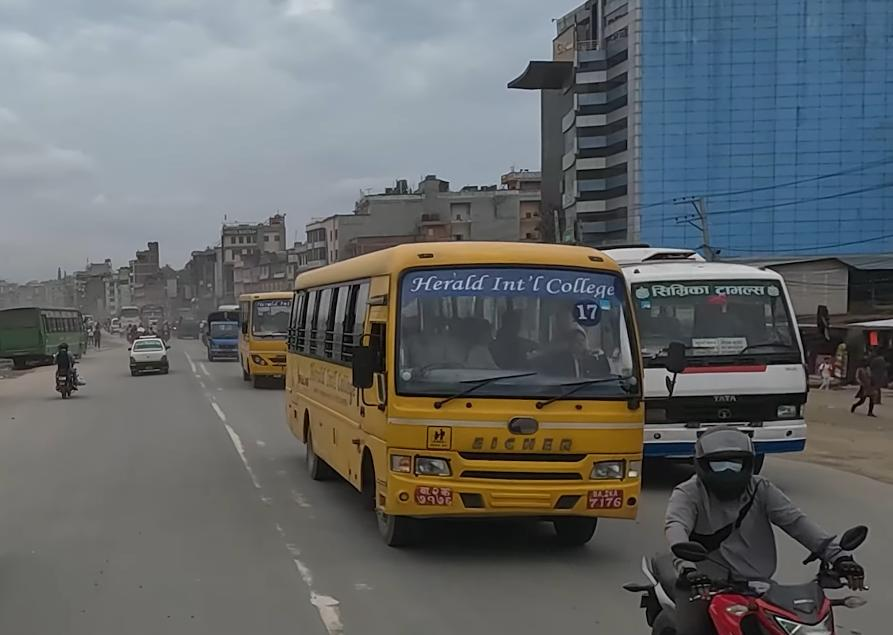bike: (618, 522, 870, 635)
bus: (599, 243, 815, 475), (0, 304, 93, 366)
school_bus: (285, 234, 653, 555), (233, 289, 310, 387)
taxi: (127, 335, 171, 376)
